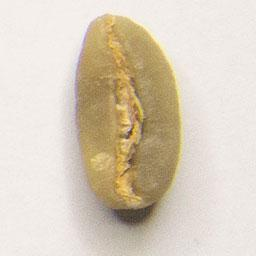longberry: (72, 12, 185, 215)
